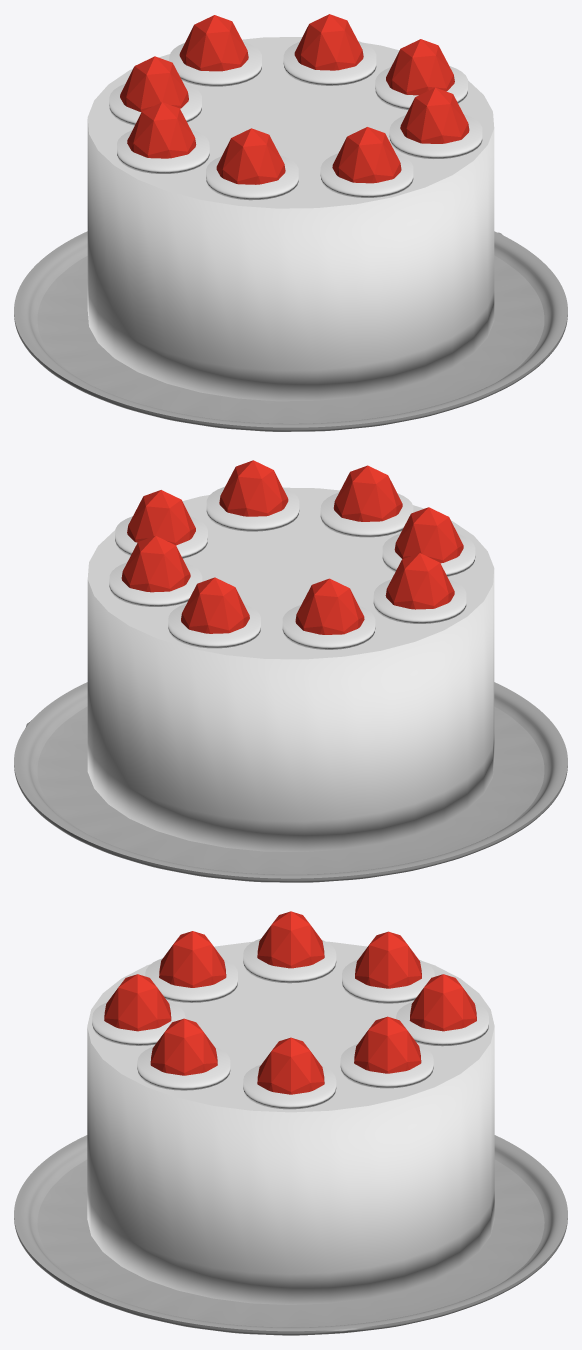
File: cake.fbx
The picture shows the model from 3 angles, top to bottom: view 1: azimuth 30°, elevation 25°; view 2: azimuth 150°, elevation 25°; view 3: azimuth 270°, elevation 25°; orthographic projection.
Visible parts, largest first — view 1: cake, Cylinder, cherry.006, cherry.002, cherry.004, cherry, cherry.003, cherry.007, cherry.001, cherry.005, icing.003, icing.007 (+6 smaller); view 2: cake, Cylinder, cherry, cherry.003, cherry.007, cherry.002, cherry.006, cherry.005, cherry.004, cherry.001, icing.001, icing.005 (+6 smaller); view 3: cake, Cylinder, cherry, cherry.001, cherry.006, cherry.003, cherry.007, cherry.004, cherry.005, cherry.002, icing.001, icing.002 (+6 smaller).
Part boxes in pixels (x1,y1,x2,y2): cake: (87, 37, 494, 401); Cylinder: (14, 231, 567, 431); cherry.006: (294, 14, 363, 70); cherry.002: (179, 15, 248, 71); cherry.004: (216, 128, 285, 184); cherry: (127, 102, 196, 158); cherry.003: (332, 127, 401, 183); cherry.007: (400, 87, 469, 143); cherry.001: (386, 39, 454, 95); cherry.005: (120, 56, 188, 112); icing.003: (283, 41, 376, 85); icing.007: (206, 155, 298, 200); cake: (87, 487, 494, 851); Cylinder: (14, 682, 567, 882); cherry: (385, 553, 454, 609); cherry.003: (333, 465, 402, 521); cherry.007: (219, 460, 288, 516); cherry.002: (181, 577, 249, 633); cherry.006: (121, 535, 190, 592); cherry.005: (295, 578, 364, 634); cherry.004: (394, 507, 463, 563); cherry.001: (127, 490, 195, 545); icing.001: (206, 486, 299, 531); icing.005: (282, 605, 375, 649); cake: (87, 941, 494, 1304); Cylinder: (14, 1135, 567, 1335); cherry: (257, 911, 324, 968); cherry.001: (257, 1037, 324, 1094); cherry.006: (354, 1016, 421, 1073); cherry.003: (104, 974, 171, 1031); cherry.007: (150, 1018, 217, 1075); cherry.004: (159, 931, 226, 987); cherry.005: (355, 931, 421, 988); cherry.002: (409, 974, 476, 1031); icing.001: (137, 1046, 230, 1090); icing.002: (243, 1065, 336, 1109).
Size of the model in its own units: 272 by 140 by 272.
